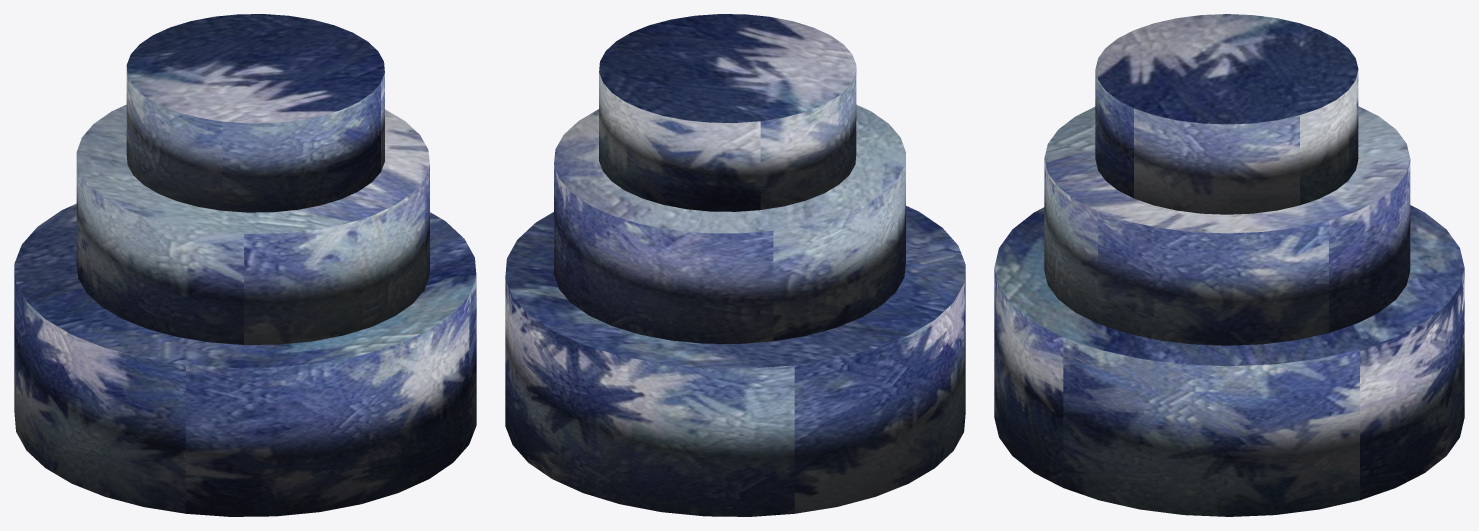
File: cake.dae
3 renders of one model, left to right at view 1: azimuth 30°, elevation 25°; view 2: azimuth 150°, elevation 25°; view 3: azimuth 270°, elevation 25°, orthographic.
Parts seen in each view (by area): view 1: Cylinder_001; view 2: Cylinder_001; view 3: Cylinder_001.
Part boxes in pixels (x1=…): Cylinder_001: x1=14, y1=14, x2=476, y2=516; Cylinder_001: x1=505, y1=14, x2=965, y2=516; Cylinder_001: x1=994, y1=14, x2=1464, y2=516.
Size of the model in its own units: 1.4 by 1.41 by 1.17.
Materials: 3 (3 with a texture image).
